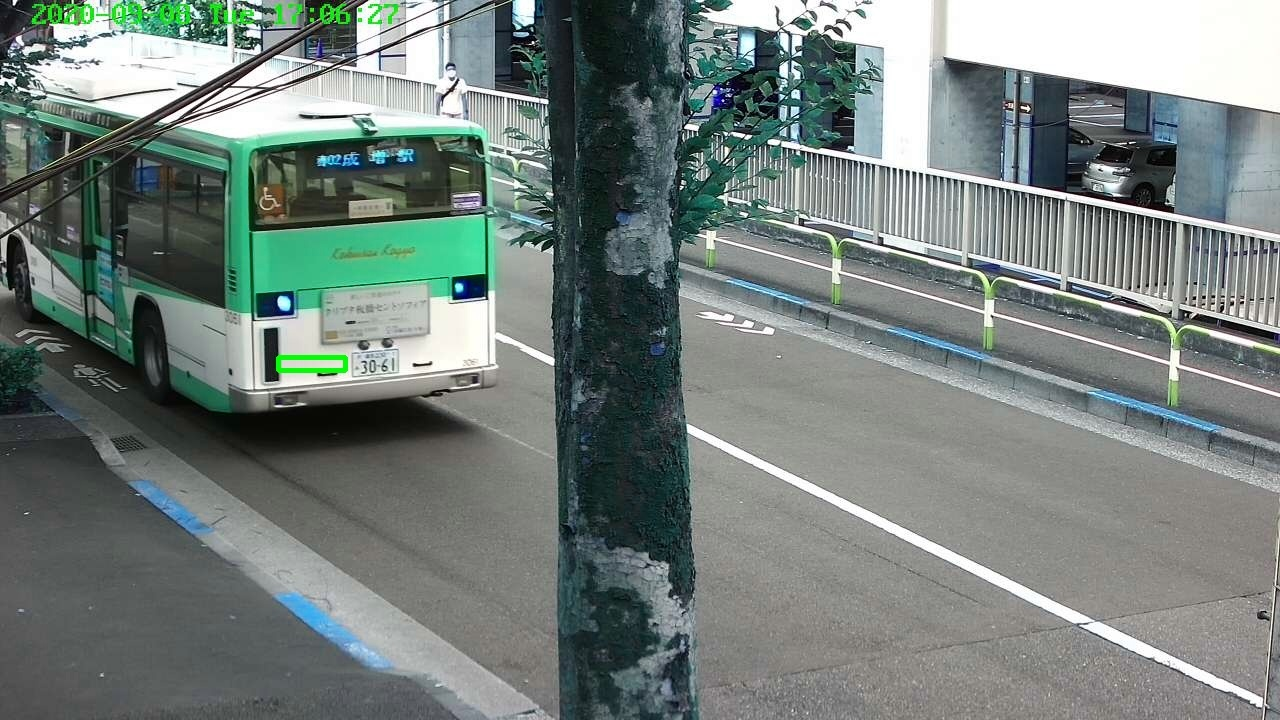number_plate: (353, 351, 400, 377)
